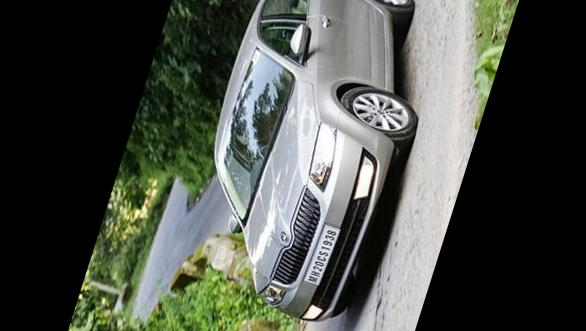plate: (297, 212, 346, 290)
